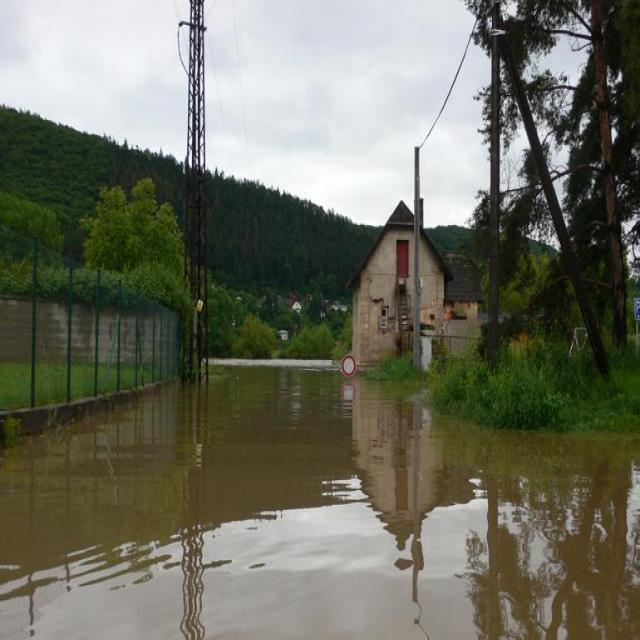flood: (4, 344, 640, 640)
